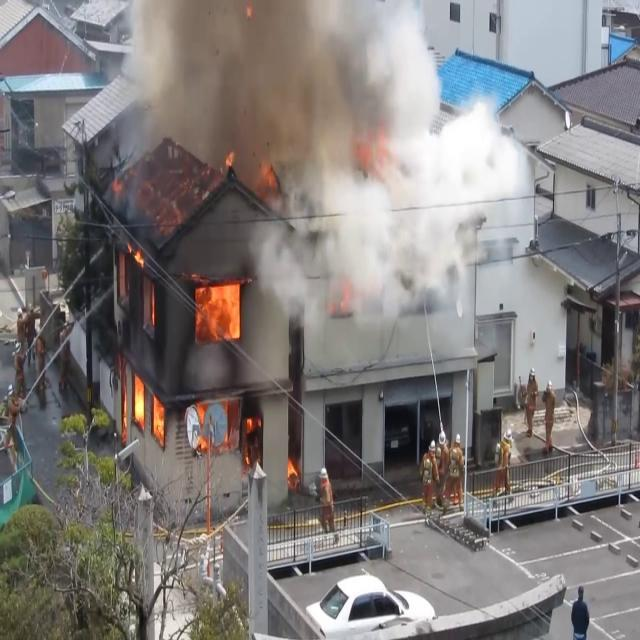Fire: (193, 272, 246, 343), (126, 238, 146, 272)
Smoke: (263, 86, 532, 350), (104, 0, 434, 188)
